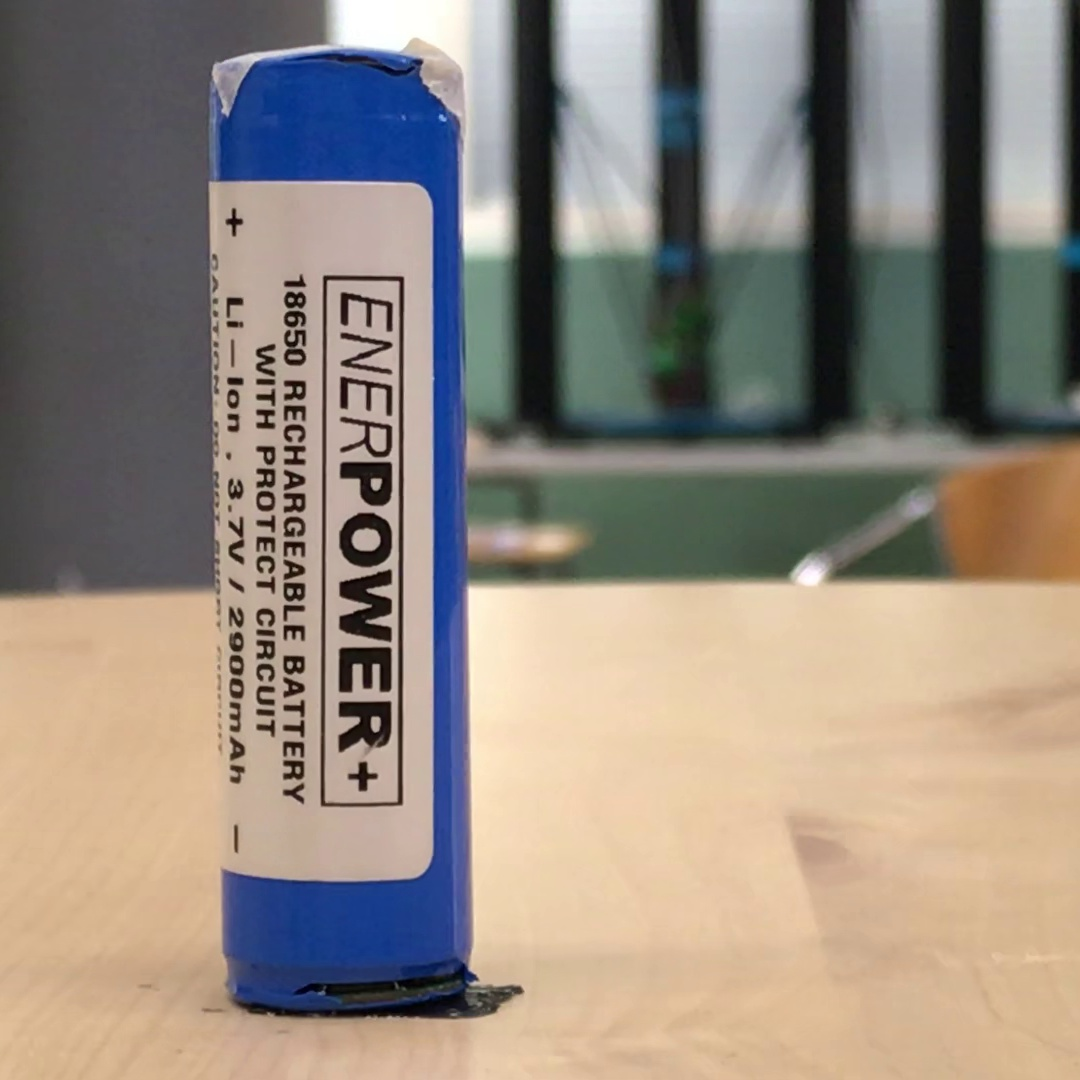keyword: (218, 468, 255, 575)
